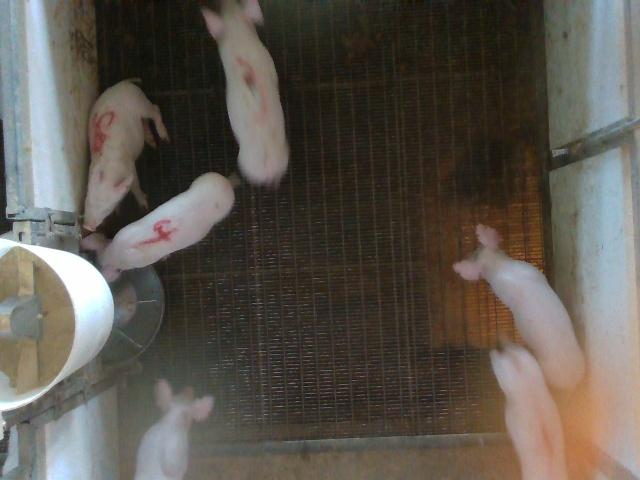pig-3: (202, 0, 289, 184)
pig-4: (82, 174, 235, 282), (490, 344, 568, 478)
pig-5: (82, 78, 169, 231)
